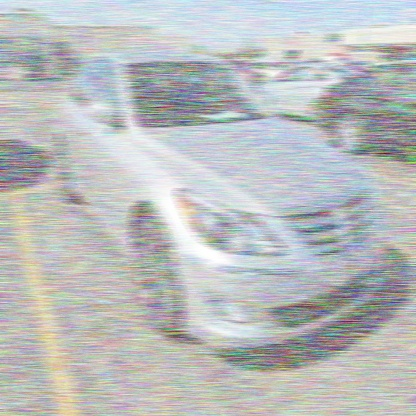Vehicle: (54, 50, 386, 348)
